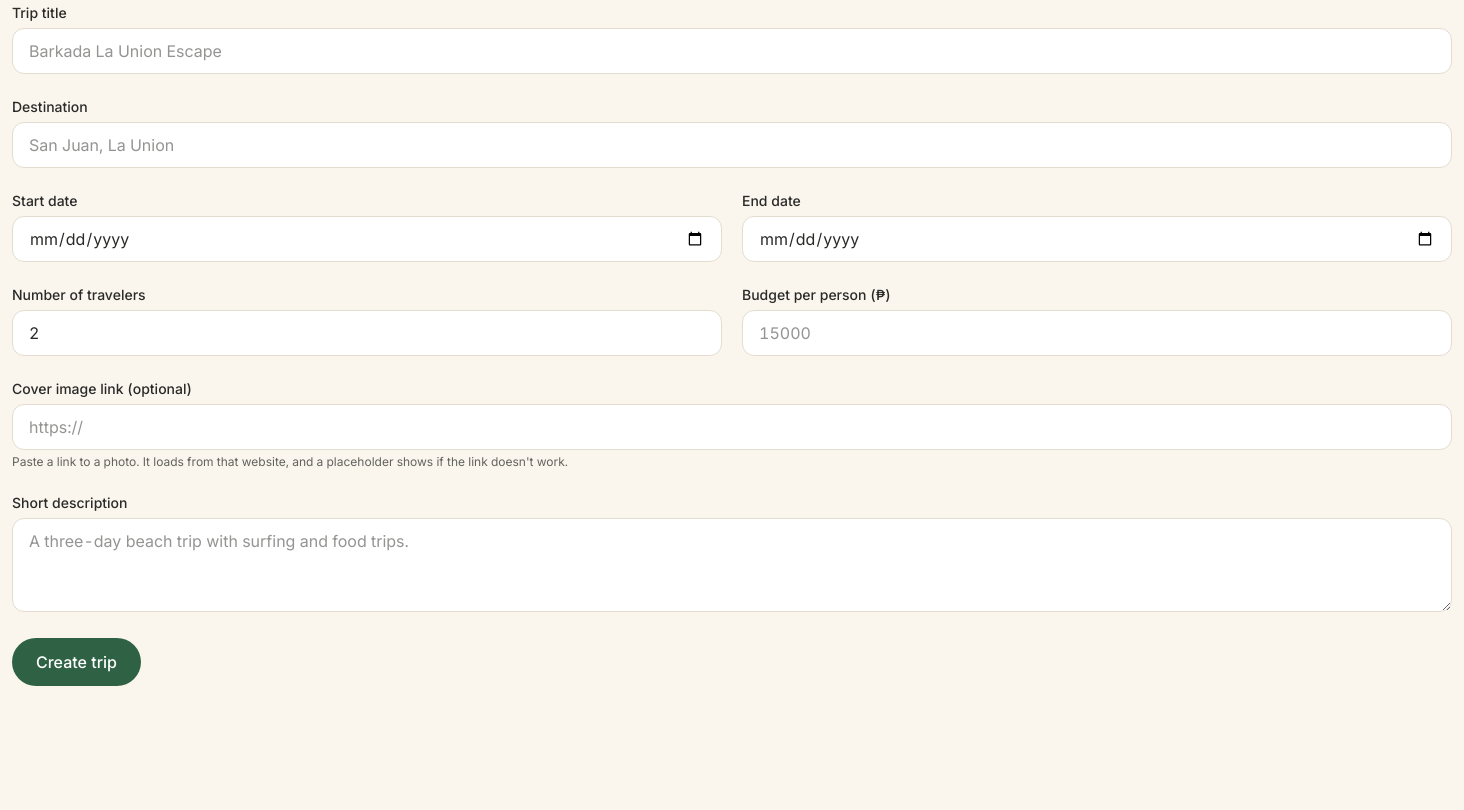
Test: TripForm › rejects zero travelers and a negative budget
Replace the text in the number field labelled "Number of travelers" with "0" at (367, 333), box [12,310,722,356]
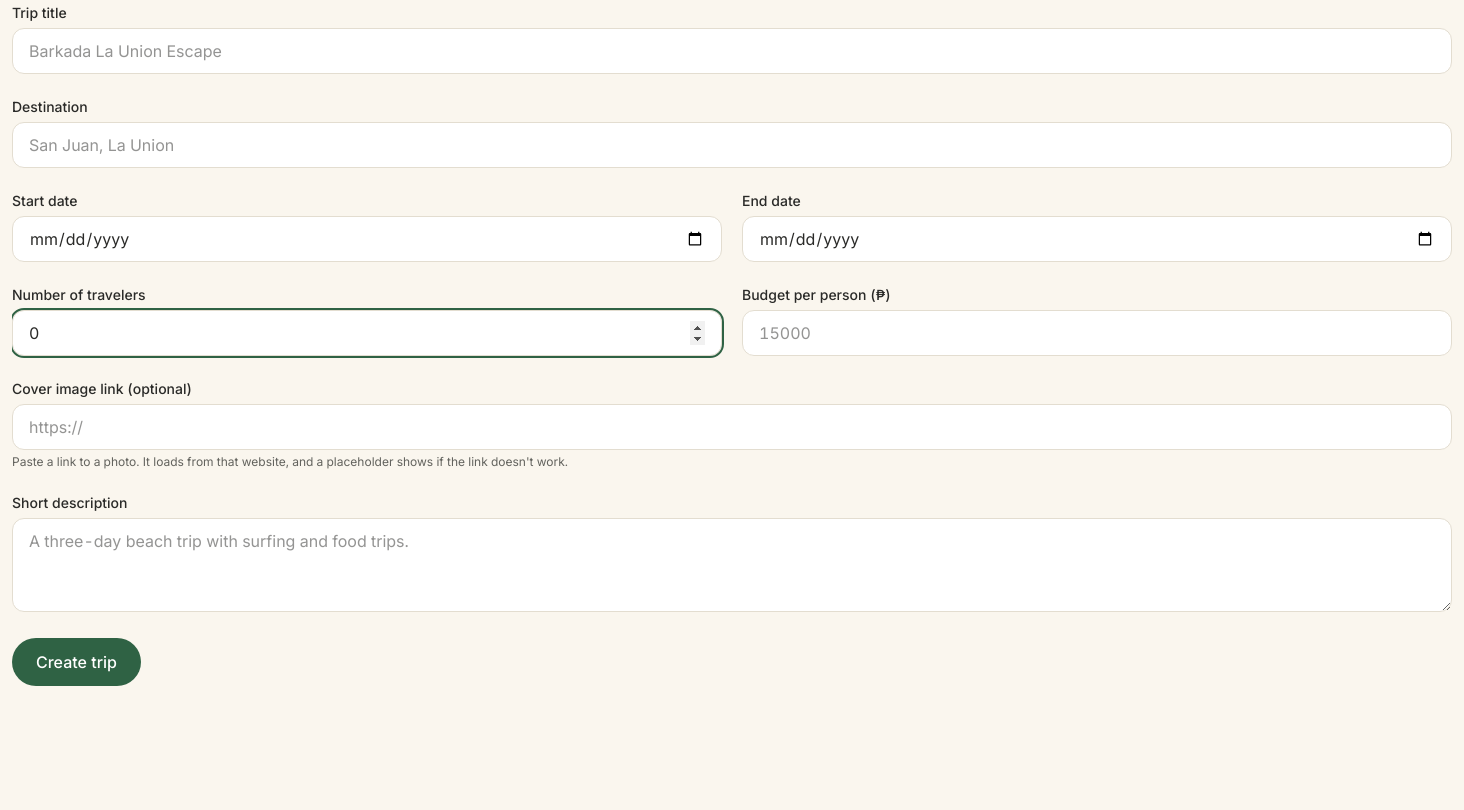
Type "-500" into the number field labelled "Budget per person (₱)" at (1097, 333), box [742,310,1452,356]
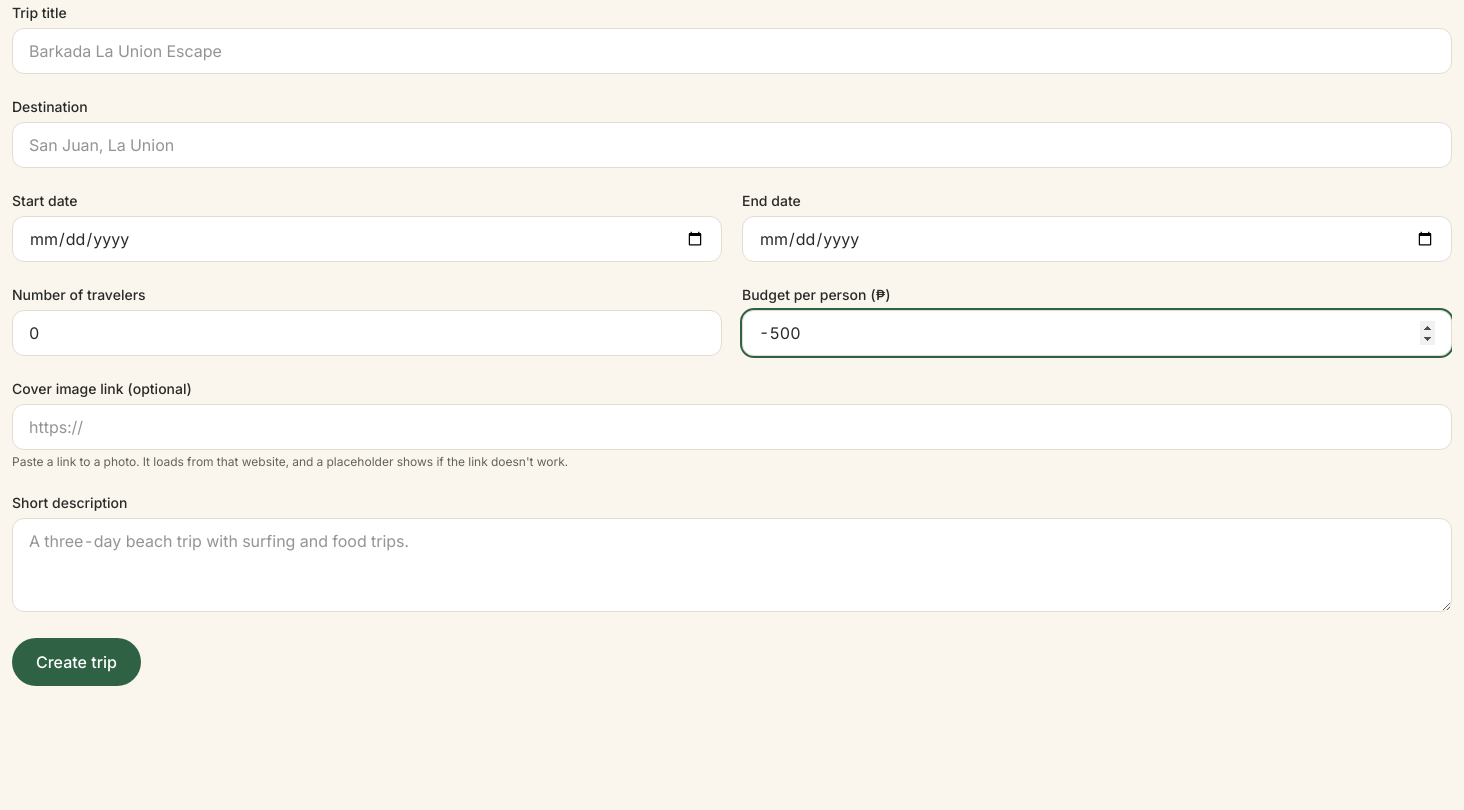
Click the button "Create trip" at (76, 662), box [12,638,141,686]
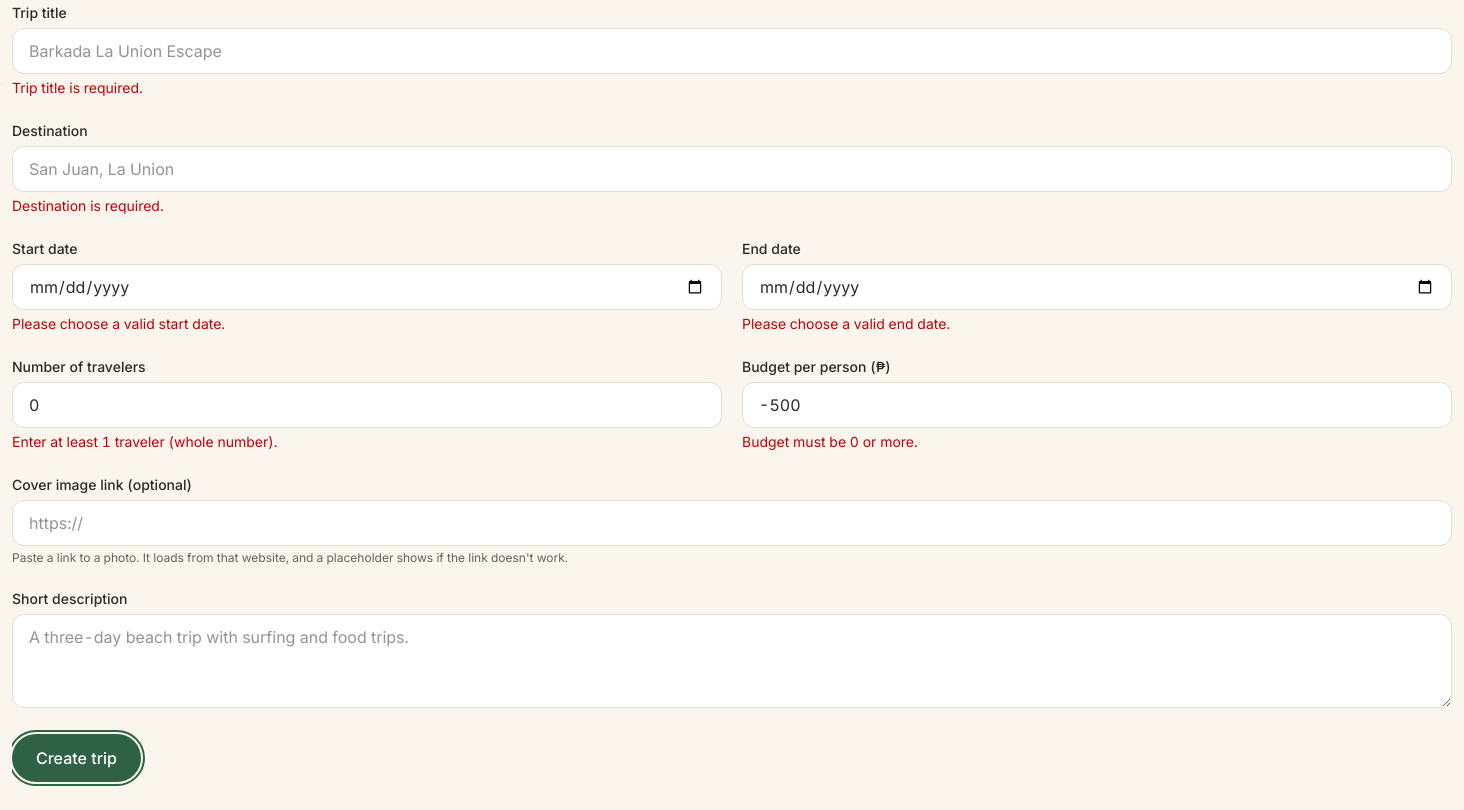
expect the text "Enter at least 1 traveler (whole number)." is shown: met, box [12,433,278,450]
expect the text "Budget must be 0 or more." is shown: met, box [742,433,918,450]
